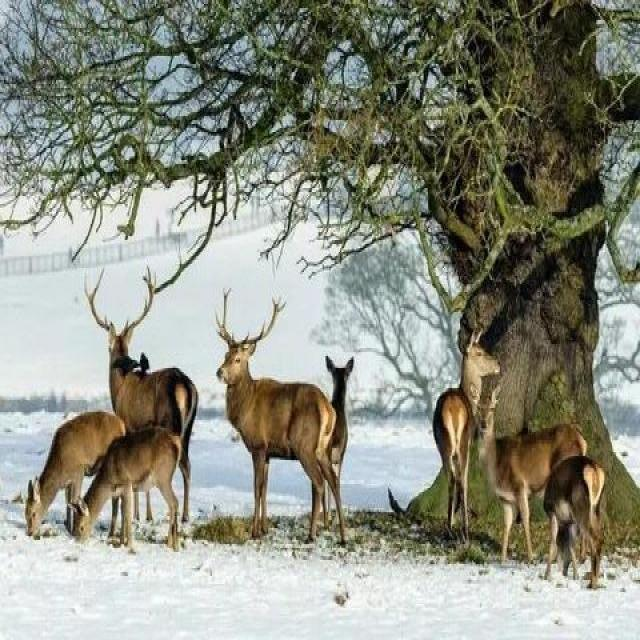deer: (188, 283, 388, 589), (47, 372, 239, 640), (484, 388, 640, 640), (90, 290, 222, 486), (421, 343, 514, 542), (50, 452, 164, 571), (312, 340, 379, 520), (494, 421, 552, 487)
